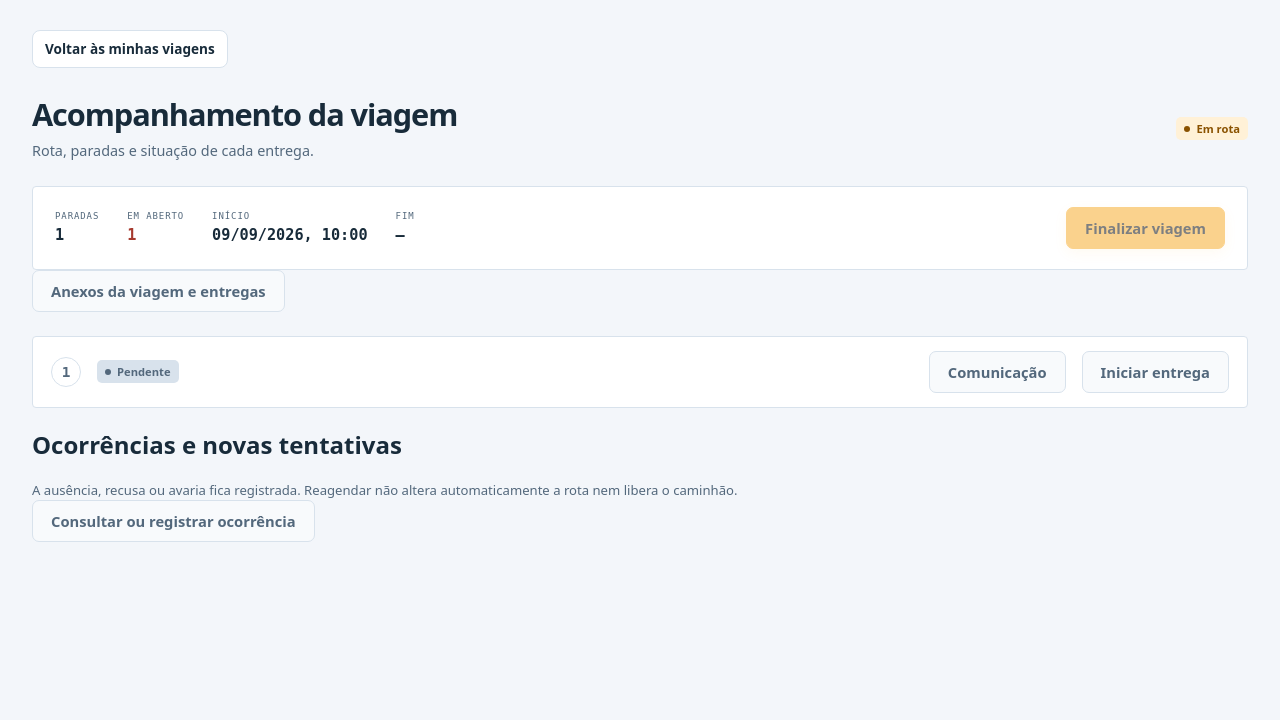
TripPage com adapter e hook reais › mostra erro de domínio do PATCH e preserva a viagem exibida
The width and height of the screenshot is (1280, 720).
Click the button "Iniciar entrega" at (1155, 372), box [1082,351,1229,393]
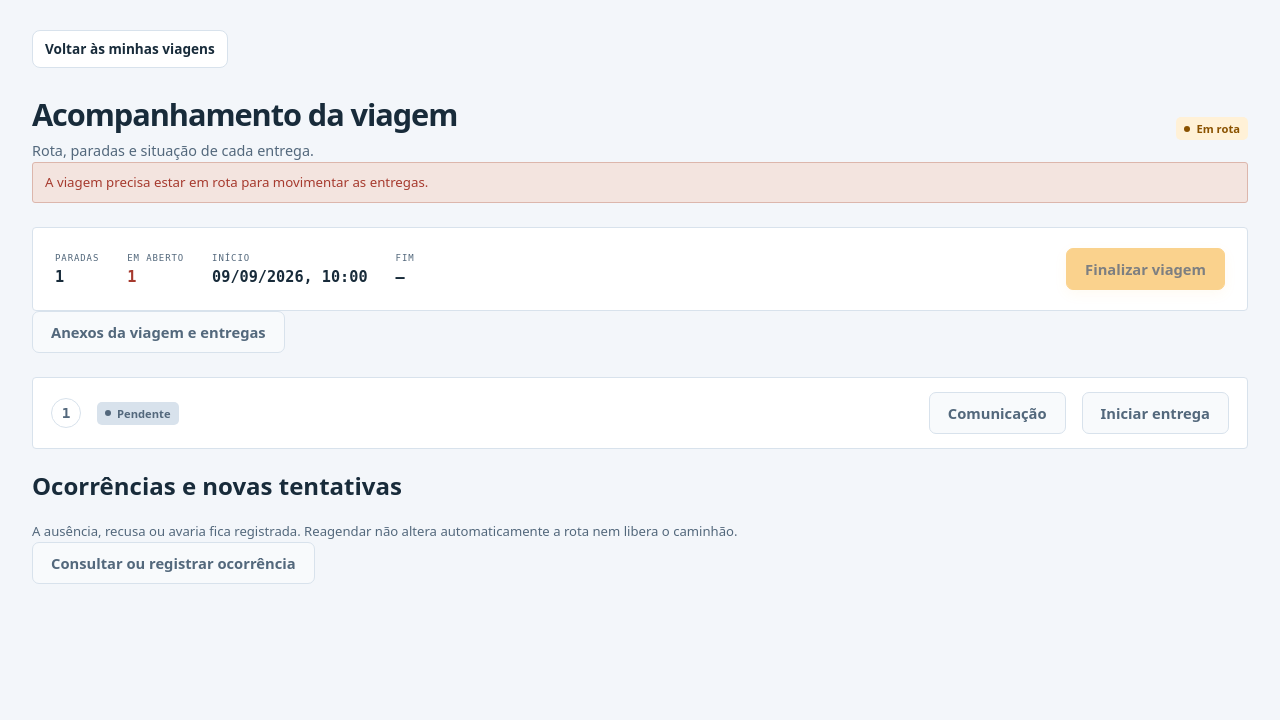
expect the button "Iniciar entrega" is enabled: met, box [1082,392,1229,434]
expect the message shows "A viagem precisa estar em rota": met, box [45,173,428,191]
